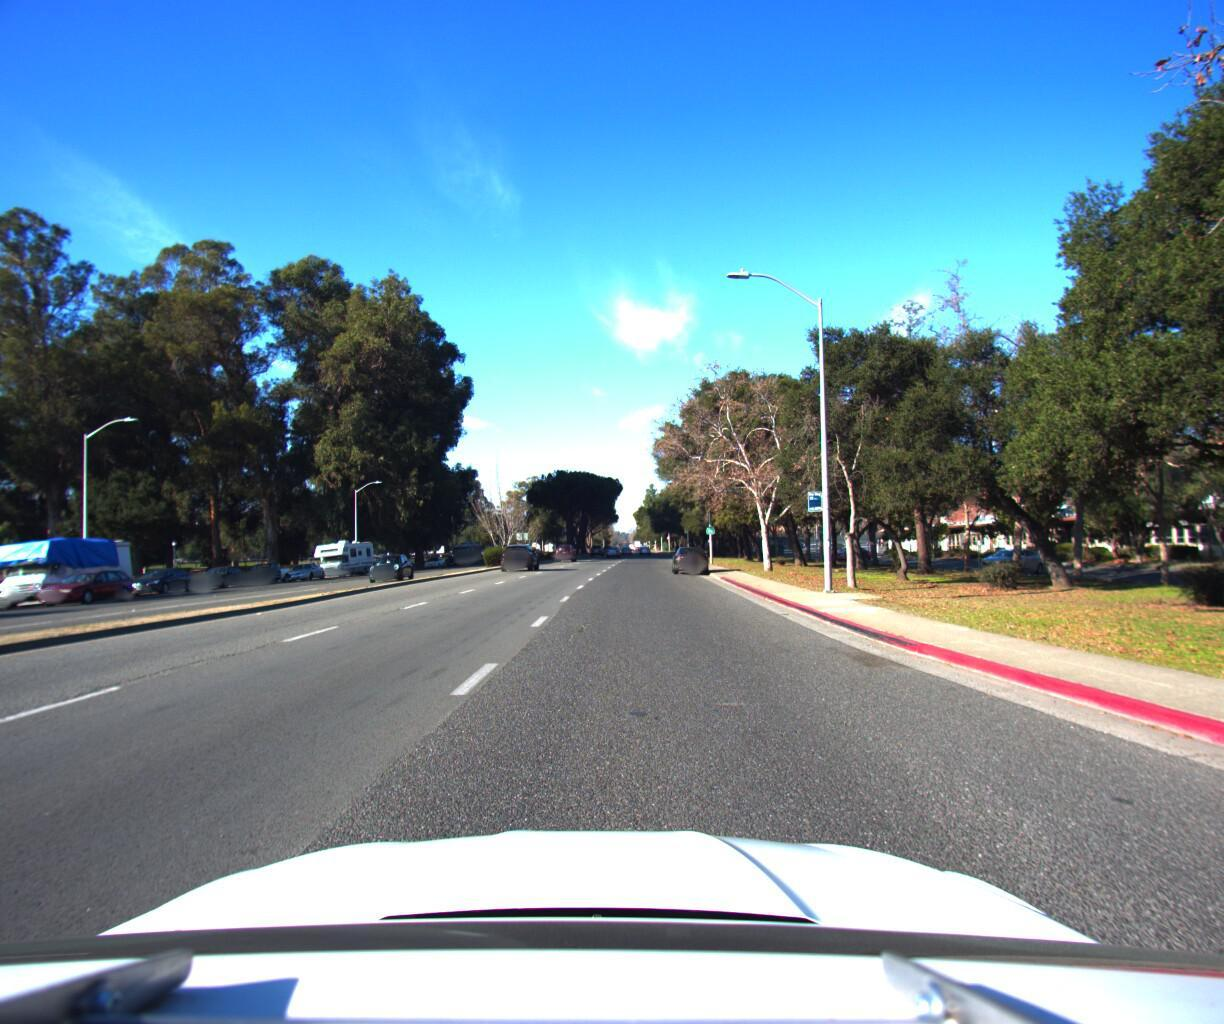car: (32, 563, 147, 607), (125, 562, 205, 595), (192, 561, 257, 589), (363, 551, 416, 582), (239, 558, 298, 585), (500, 540, 541, 573), (669, 541, 711, 573), (0, 554, 17, 622), (286, 558, 331, 580), (553, 542, 578, 560)
other_vehicle: (0, 528, 145, 608), (310, 533, 382, 578)
